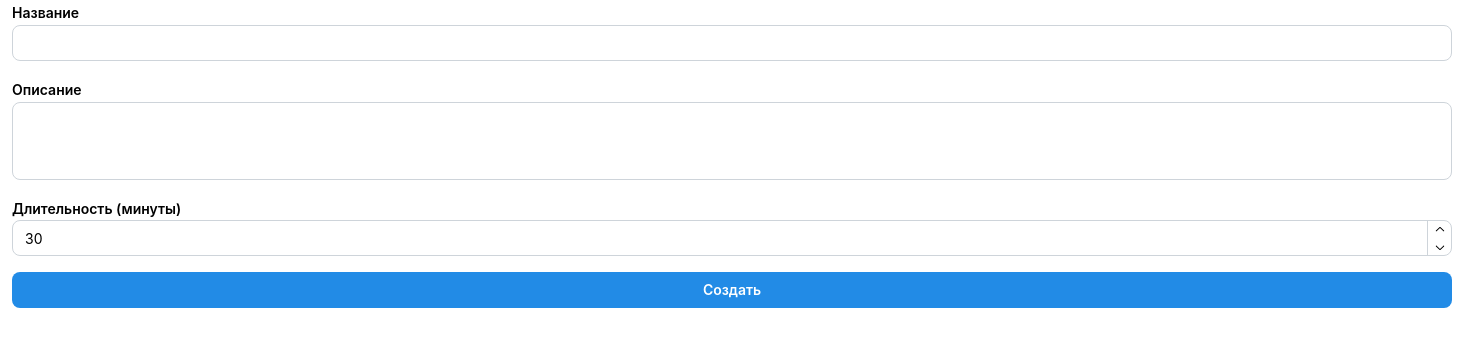
Test: CreateEventType › shows an error when the name is empty
Click the button "Создать": click(732, 290) [12, 272, 1452, 308]
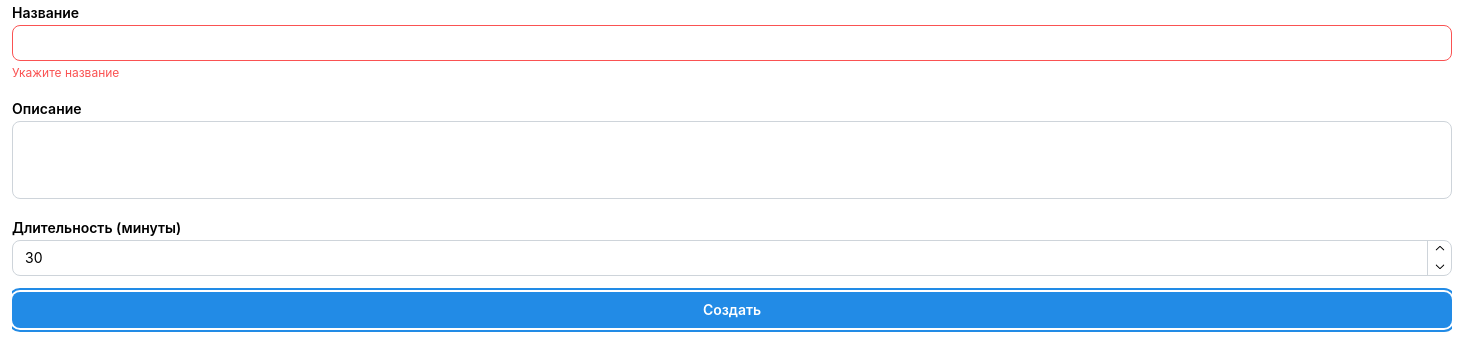
Now the text "Укажите название" is shown, box [12, 65, 119, 80]
